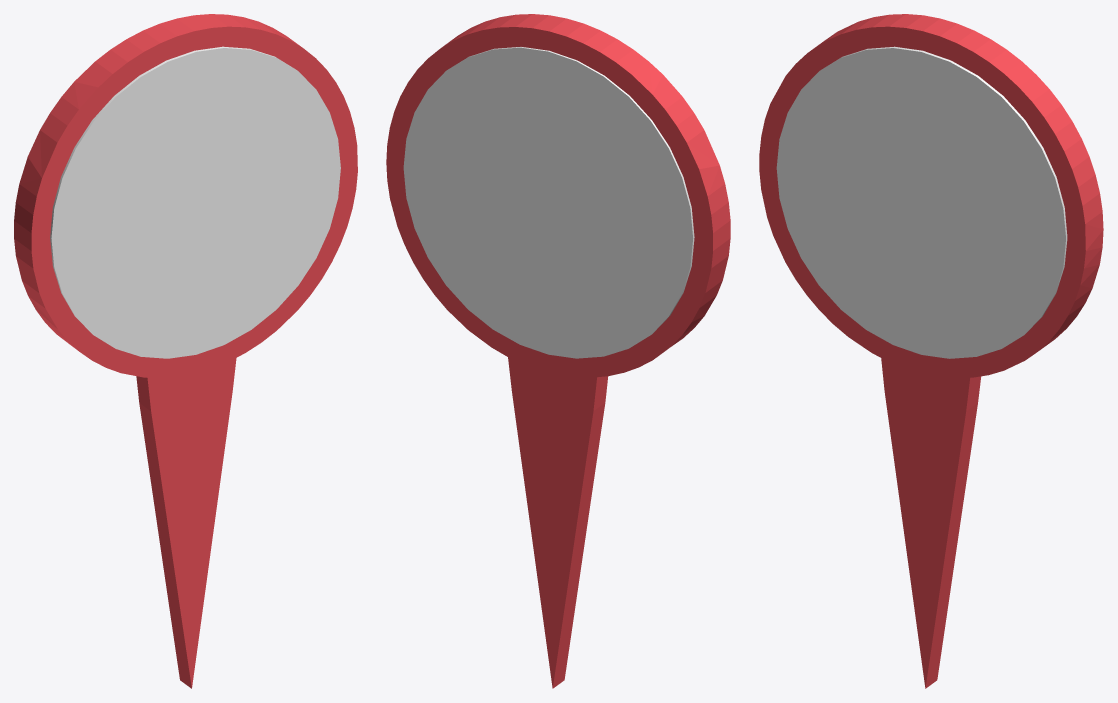
Rendered from pin3d.glb.
3 renders of one model, left to right at view 1: azimuth 30°, elevation 25°; view 2: azimuth 150°, elevation 25°; view 3: azimuth 330°, elevation 25°, orthographic.
Visible parts, largest first — view 1: Cylinder1, CylinderRed, sting; view 2: Cylinder1, CylinderRed, sting; view 3: Cylinder1, CylinderRed, sting.
Boxes of the visible parts, bbox=[...] form: Cylinder1: bbox=[50, 46, 340, 358]; CylinderRed: bbox=[14, 14, 357, 378]; sting: bbox=[136, 358, 236, 688]; Cylinder1: bbox=[403, 47, 694, 358]; CylinderRed: bbox=[386, 14, 730, 377]; sting: bbox=[508, 357, 608, 688]; Cylinder1: bbox=[776, 46, 1067, 358]; CylinderRed: bbox=[759, 14, 1103, 378]; sting: bbox=[881, 358, 981, 688].
Size of the model in its own units: 13.99 by 27 by 1.5.
